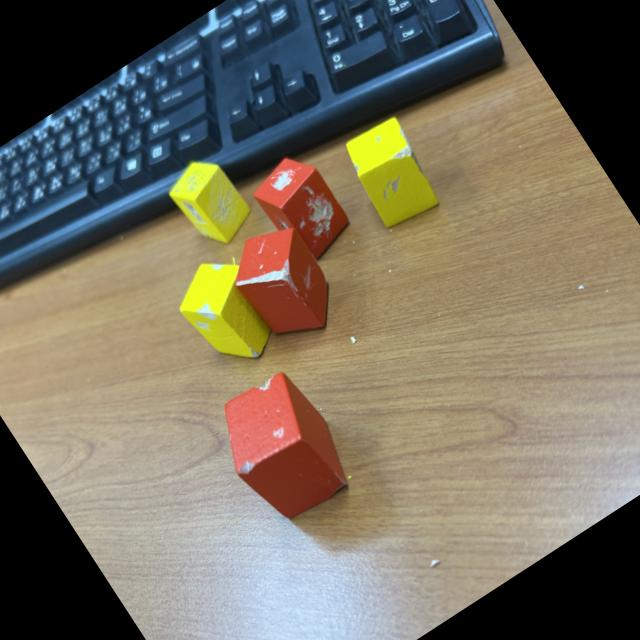broken: (200, 356, 363, 532), (216, 211, 350, 357), (162, 242, 291, 381), (334, 110, 450, 236), (244, 144, 359, 270), (159, 144, 262, 258)
